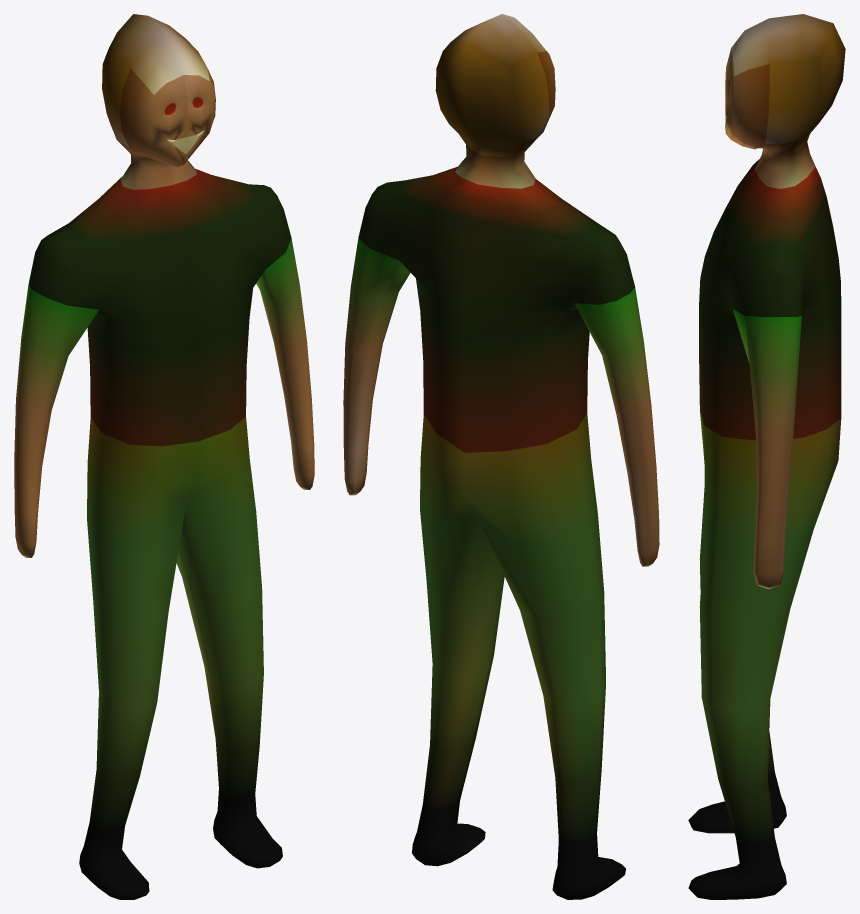
The model's file is final boss.fbx.
3 views of the same model, side by side, from view 1: azimuth 30°, elevation 25°; view 2: azimuth 150°, elevation 25°; view 3: azimuth 270°, elevation 25° (orthographic). The views are drawn at different scales.
Parts seen in each view (by area): view 1: final boss; view 2: final boss; view 3: final boss.
Part boxes in pixels (x1,y1,x2,y2): final boss: (14,14,314,899); final boss: (343,14,659,899); final boss: (688,14,845,899).
Bounding box in the file's own units: 295 × 795 × 134.
